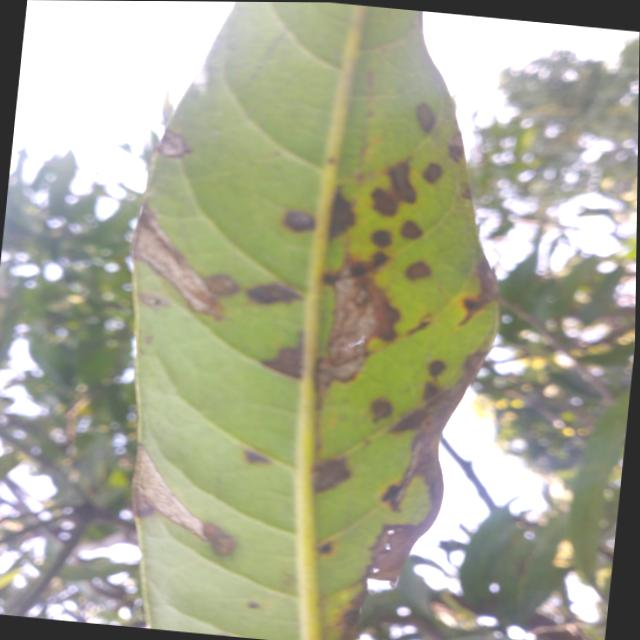Anthracnose: (101, 443, 240, 582), (112, 204, 240, 332), (315, 263, 406, 396), (454, 256, 510, 333), (306, 452, 354, 494), (195, 517, 238, 561), (388, 402, 432, 444), (155, 127, 196, 165), (386, 159, 419, 206), (449, 288, 488, 327), (246, 279, 299, 306), (262, 342, 302, 376), (203, 267, 240, 302), (330, 190, 355, 238), (380, 480, 408, 511), (369, 187, 398, 215), (413, 100, 437, 133), (396, 217, 424, 245), (282, 209, 315, 232), (367, 395, 394, 422), (419, 159, 445, 186), (446, 130, 466, 163), (403, 259, 432, 281), (136, 291, 169, 310), (406, 316, 430, 339), (369, 229, 393, 248), (368, 248, 389, 268), (242, 449, 270, 464), (421, 380, 438, 400), (427, 359, 446, 376), (348, 261, 368, 277), (460, 184, 473, 200), (321, 271, 337, 284), (318, 541, 333, 554), (246, 598, 259, 611), (181, 150, 199, 157)
